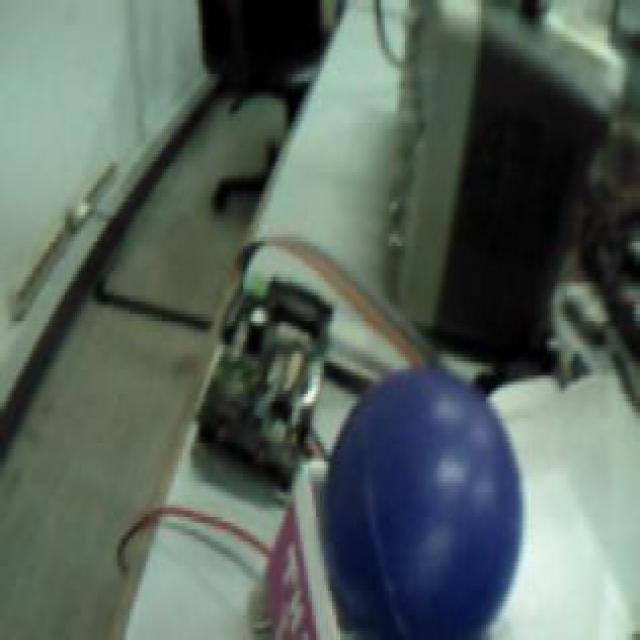BallPurple: (318, 366, 523, 640)
